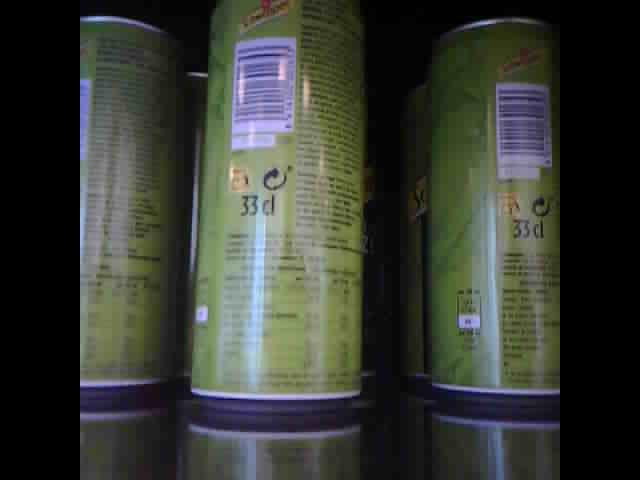schweppes: (186, 1, 372, 410), (423, 16, 559, 407), (80, 14, 179, 395)
